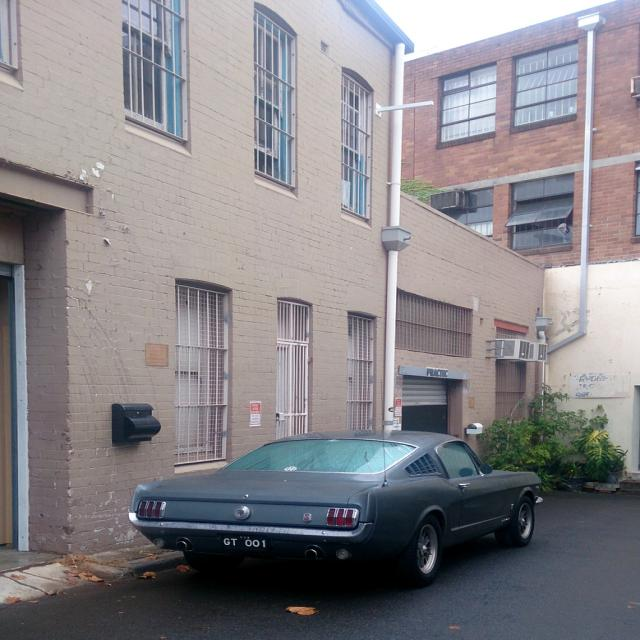car: (132, 433, 538, 584)
